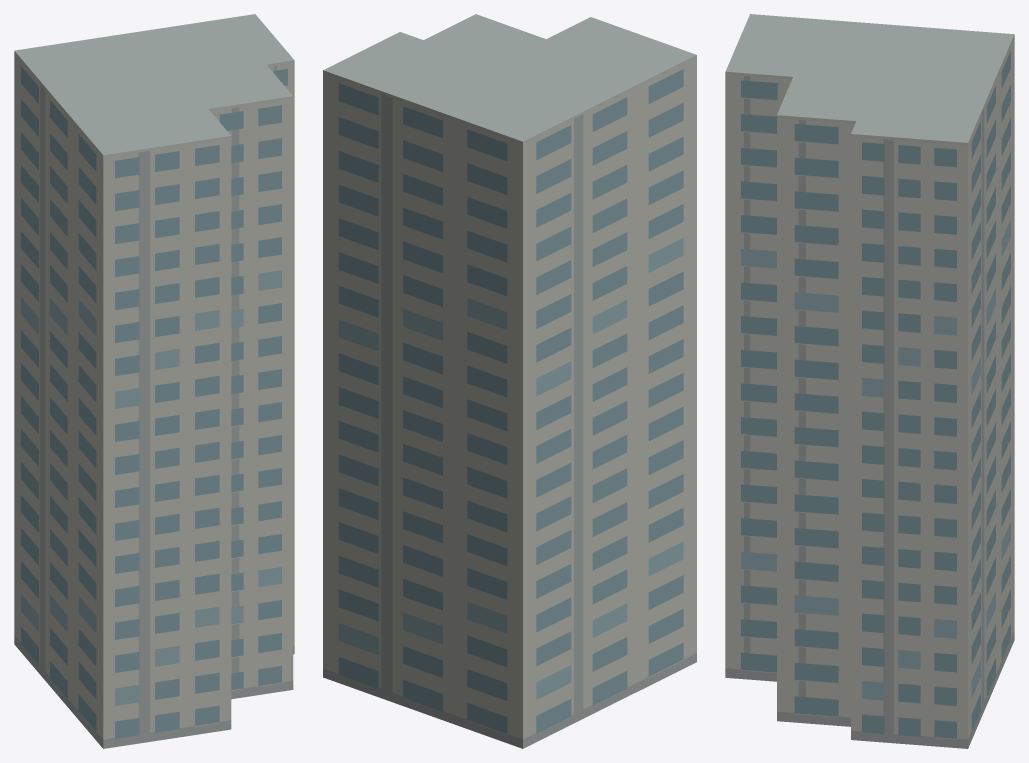
File: residential-8c351f4c-f2ae-4b2e-9e7d-6bf2542c9c5b.glb
The picture shows the model from 3 angles, left to right: view 1: azimuth 30°, elevation 25°; view 2: azimuth 150°, elevation 25°; view 3: azimuth 270°, elevation 25°; orthographic projection. The views are drawn at different scales.
Parts seen in each view (by area): view 1: residential-8c351f4c-f2ae-4b2e-9e7d-6bf2542c9c5b.tmp; view 2: residential-8c351f4c-f2ae-4b2e-9e7d-6bf2542c9c5b.tmp; view 3: residential-8c351f4c-f2ae-4b2e-9e7d-6bf2542c9c5b.tmp.
Part boxes in pixels (<box>): residential-8c351f4c-f2ae-4b2e-9e7d-6bf2542c9c5b.tmp: <box>14,14,294,748</box>; residential-8c351f4c-f2ae-4b2e-9e7d-6bf2542c9c5b.tmp: <box>323,14,696,748</box>; residential-8c351f4c-f2ae-4b2e-9e7d-6bf2542c9c5b.tmp: <box>725,14,1014,748</box>.
Bounding box in the file's own units: 25.05 × 54.9 × 23.75.
